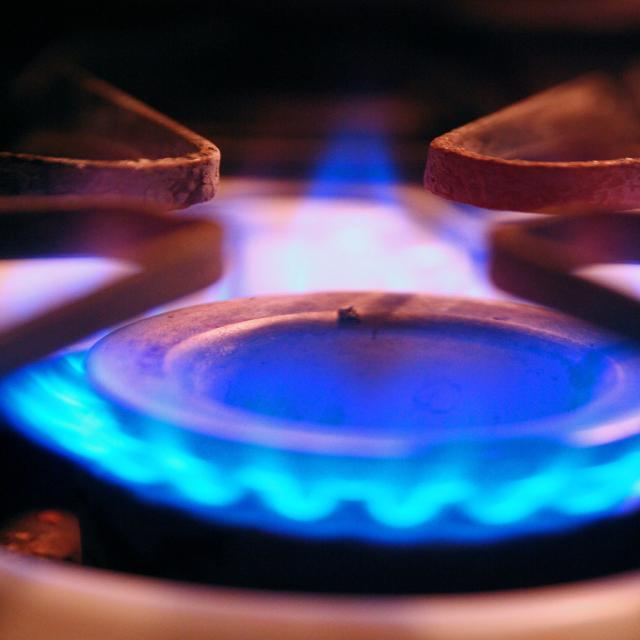Fire: (155, 414, 600, 539), (225, 181, 525, 314)
